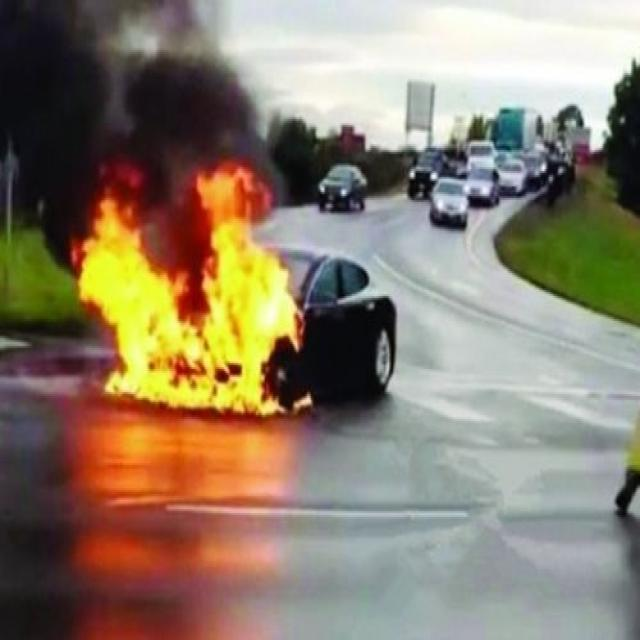Fire: (72, 162, 314, 416)
Smoke: (1, 1, 296, 282)
